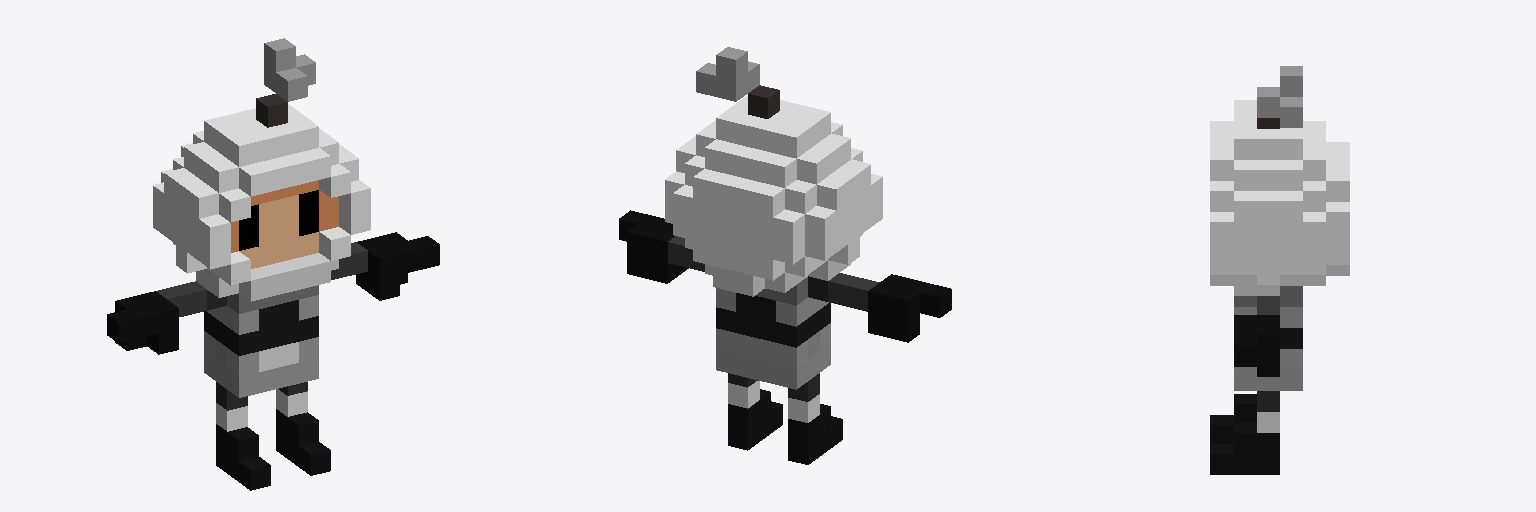
3 views of the same model, side by side, from view 1: azimuth 30°, elevation 25°; view 2: azimuth 150°, elevation 25°; view 3: azimuth 270°, elevation 25° (orthographic).
Bounding box in the file's own units: 16 × 19 × 6.
Materials: 1 (1 with a texture image).